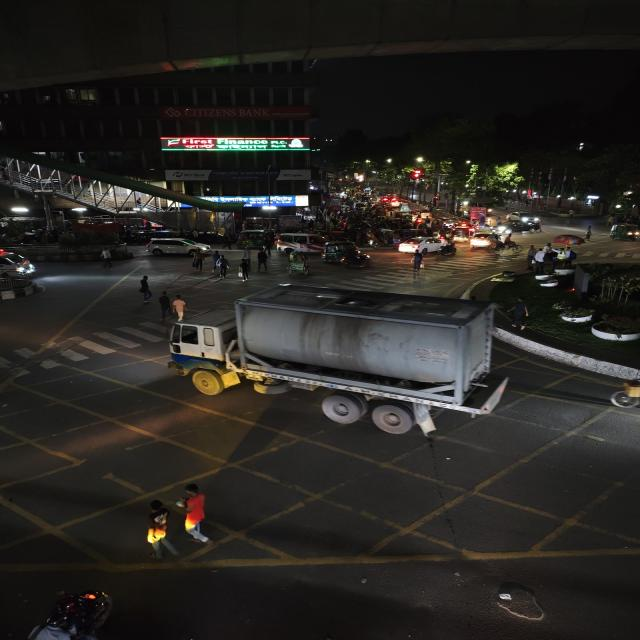car: (143, 237, 213, 257), (0, 248, 37, 279), (505, 212, 544, 234), (396, 237, 444, 253)
cng: (320, 240, 372, 270), (468, 231, 500, 251)
motorcycle: (26, 588, 121, 640)
pedestrian: (174, 482, 218, 546), (135, 498, 177, 565), (506, 298, 531, 332), (155, 290, 175, 322), (133, 273, 154, 303), (170, 292, 190, 323), (212, 252, 230, 280), (255, 246, 272, 274), (94, 249, 116, 270), (235, 256, 252, 283), (189, 249, 207, 274), (409, 249, 426, 275), (524, 246, 541, 270)
rickshaw: (285, 250, 314, 280), (467, 231, 500, 251)
truck: (163, 281, 508, 440)
